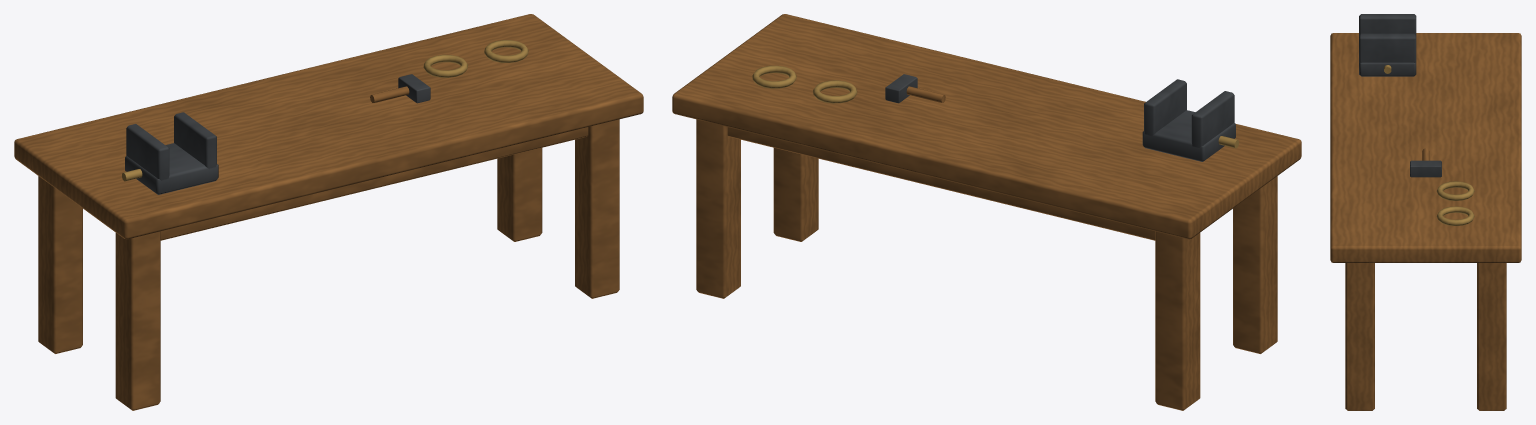
File: Furn_WSBench.fbx
3 views of the same model, side by side, from view 1: azimuth 30°, elevation 25°; view 2: azimuth 150°, elevation 25°; view 3: azimuth 270°, elevation 25° (orthographic). The views are drawn at different scales.
Visible parts, largest first — view 1: Furn_WSBench_Mesh; view 2: Furn_WSBench_Mesh; view 3: Furn_WSBench_Mesh.
Part boxes in pixels (bbox=[...]): Furn_WSBench_Mesh: bbox=[14, 14, 643, 410]; Furn_WSBench_Mesh: bbox=[672, 14, 1301, 410]; Furn_WSBench_Mesh: bbox=[1330, 14, 1521, 410].
Bounding box in the file's own units: 2.4 × 1.1 × 0.9.
3 materials, 3 textured.
